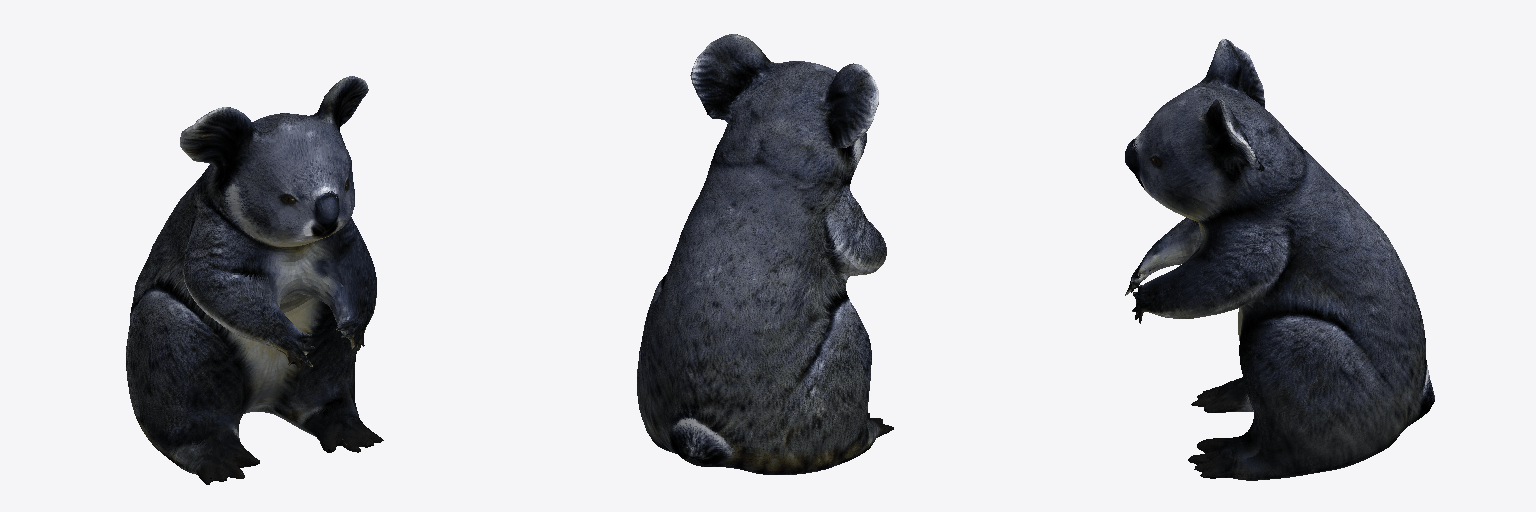
3 views of the same model, side by side, from view 1: azimuth 30°, elevation 25°; view 2: azimuth 150°, elevation 25°; view 3: azimuth 270°, elevation 25° (orthographic).
Parts seen in each view (by area): view 1: Koala_Quad; view 2: Koala_Quad; view 3: Koala_Quad.
Boxes of the visible parts, <box> form: Koala_Quad: <box>126,76,383,484</box>; Koala_Quad: <box>637,34,893,474</box>; Koala_Quad: <box>1125,39,1434,480</box>.
Bounding box in the file's own units: 0.3762 × 0.6286 × 0.4777.
Materials: 1 (1 with a texture image).